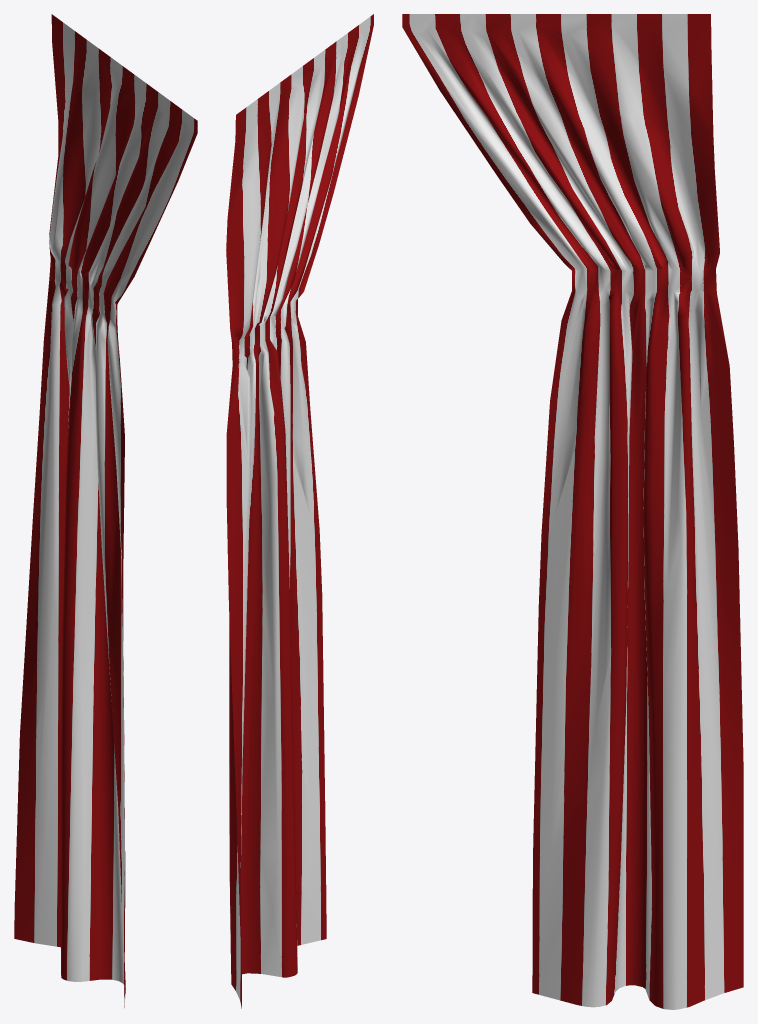
Rendered from left.FBX.
3 renders of one model, left to right at view 1: azimuth 30°, elevation 25°; view 2: azimuth 150°, elevation 25°; view 3: azimuth 270°, elevation 25°, orthographic. The views are drawn at different scales.
Parts seen in each view (by area): view 1: left; view 2: left; view 3: left.
Boxes of the visible parts, x1,y1,x2,y2 form: left: (14, 14, 197, 1007); left: (226, 14, 373, 1008); left: (402, 14, 743, 1009).
Bounding box in the file's own units: 17.96 × 330 × 104.
